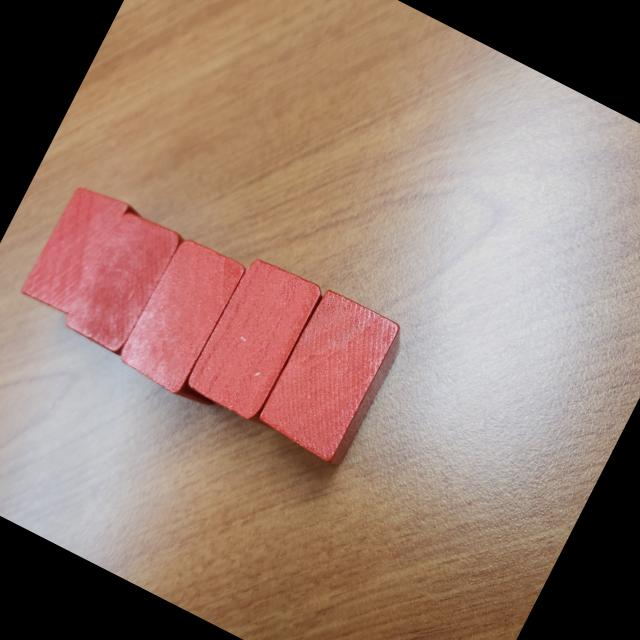red: (251, 285, 410, 471), (182, 252, 326, 426), (112, 233, 249, 401), (61, 205, 186, 358), (17, 177, 142, 327)
